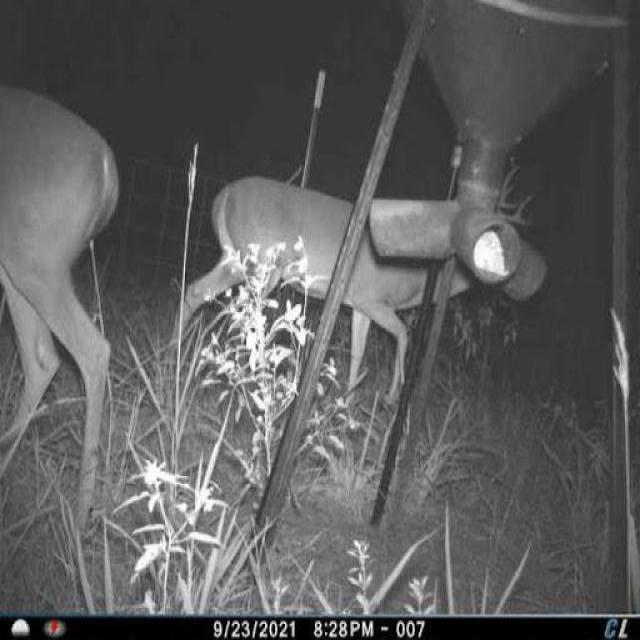deer: (170, 149, 535, 432), (0, 86, 135, 535)
